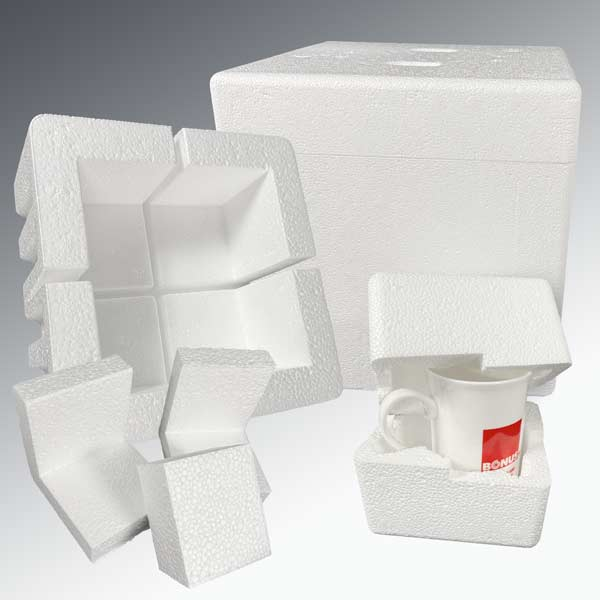泡沫箱: (13, 42, 581, 585)
